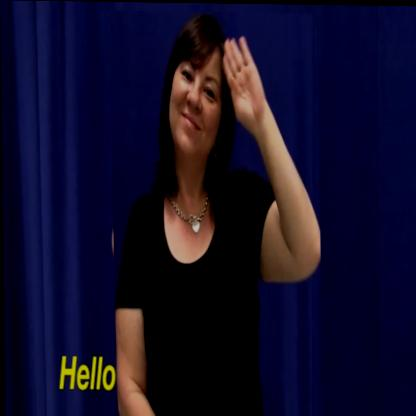Hello: (110, 10, 322, 416)
